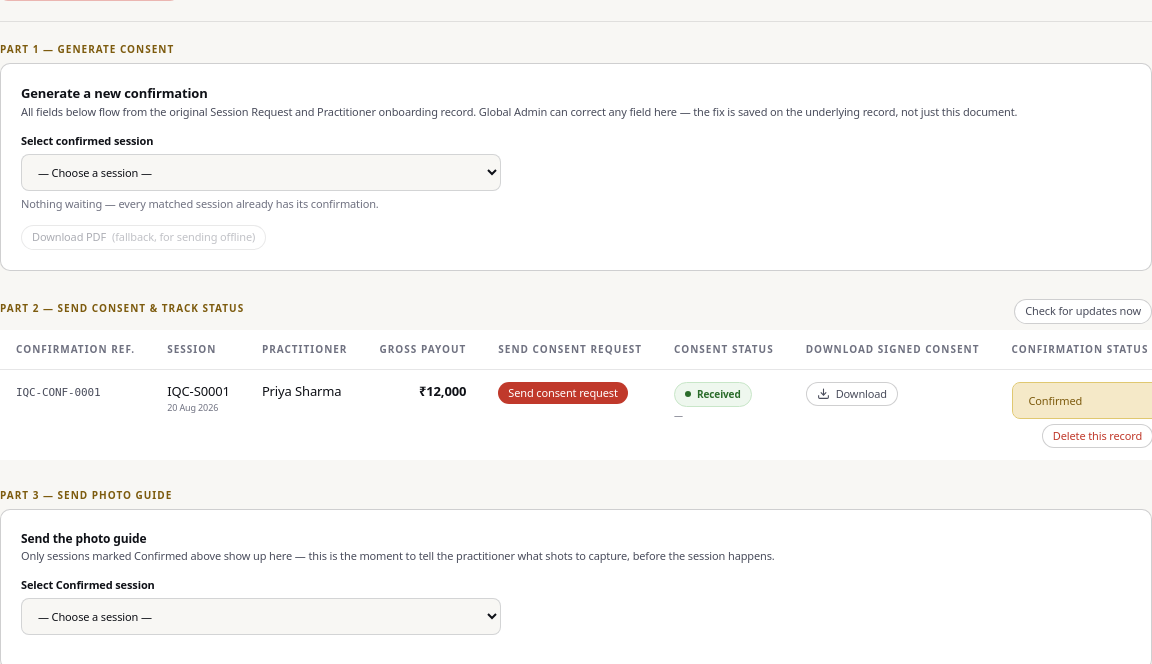
it: Part 3 — Send Photo Guide › warns before sending a guide that has already gone
Select "IQC-S0001 — Priya Sharma — Equity Investing Simplified" in the dropdown named "select confirmed session to send" at {"x": 261, "y": 616}, box left=21, top=598, right=501, bottom=635
(page scrolled)
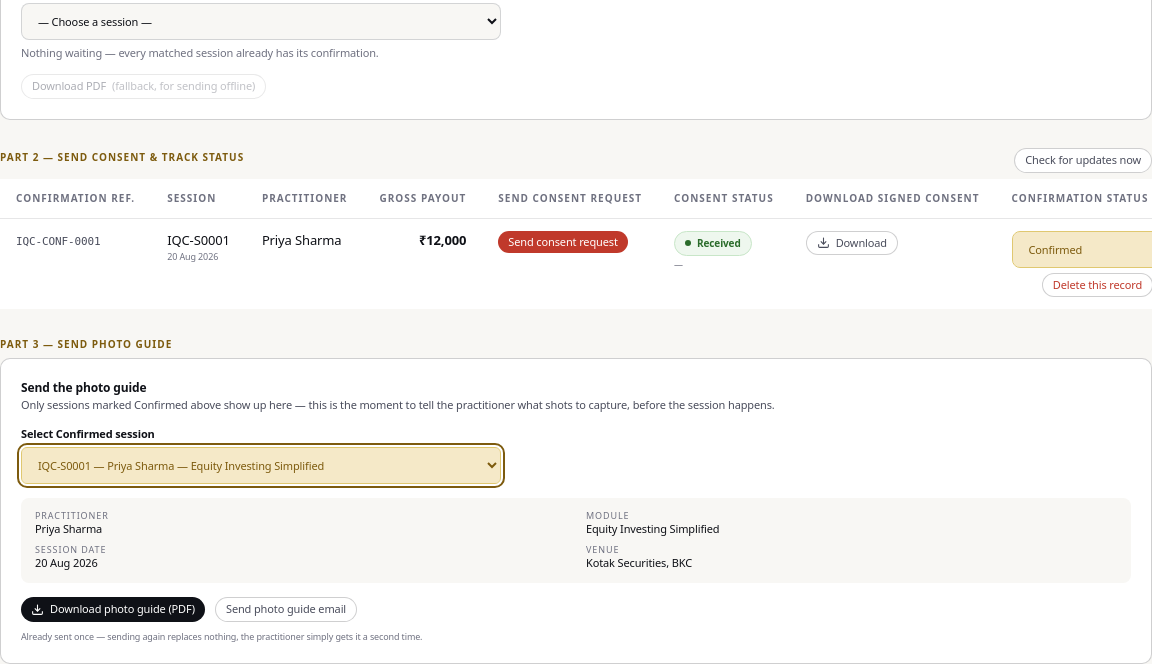
Expected: the text "Already sent once" is shown, left=21, top=630, right=422, bottom=643
